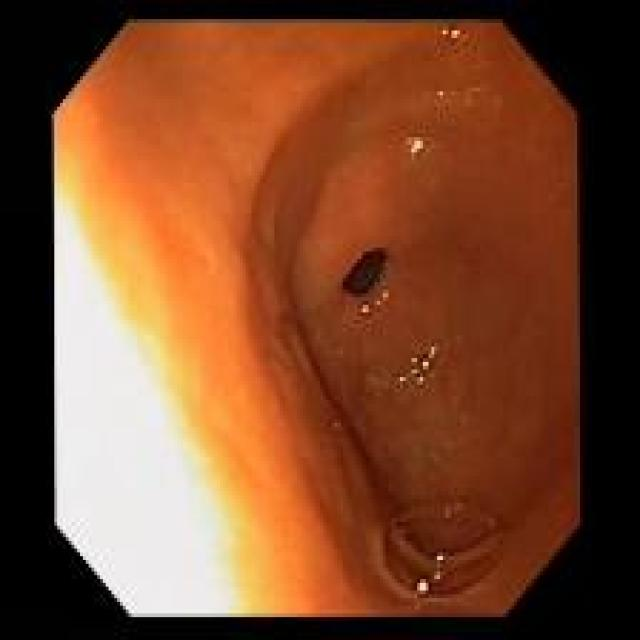bubbles: (370, 489, 517, 613)
contrast: (341, 247, 390, 293)
saturation: (55, 83, 305, 616)
specularity: (394, 347, 436, 395), (353, 296, 377, 324), (411, 568, 432, 599), (404, 133, 426, 155), (441, 24, 462, 41), (434, 551, 445, 565)
